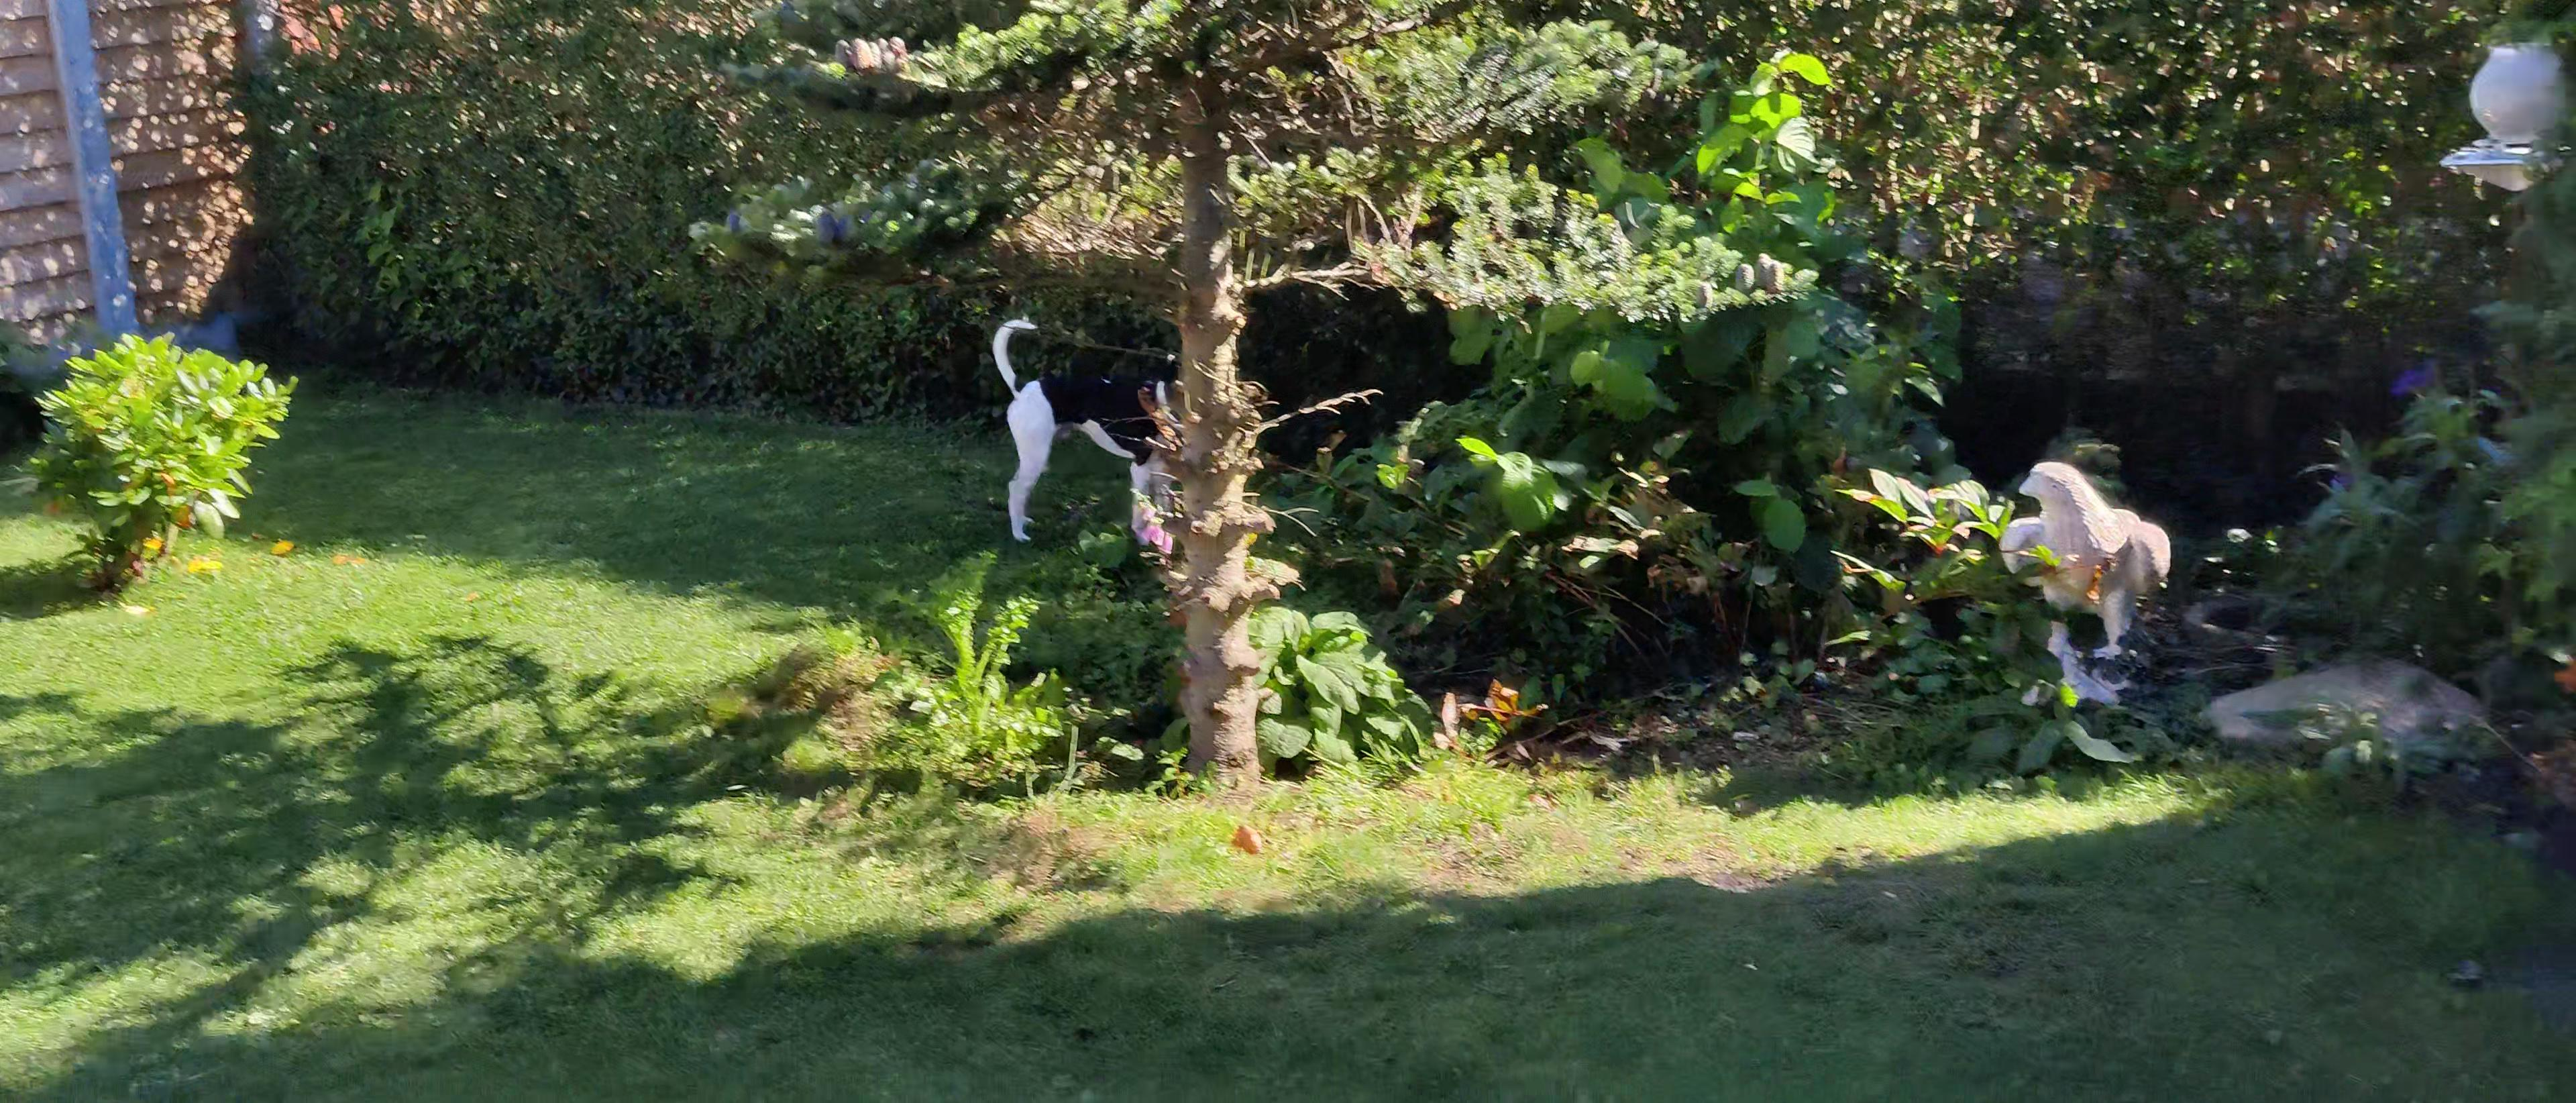Dog: (987, 314, 1193, 544)
